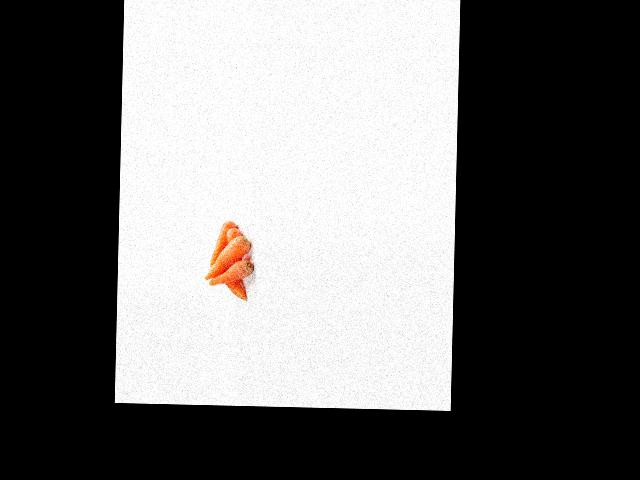carrot: (210, 258, 254, 287)
